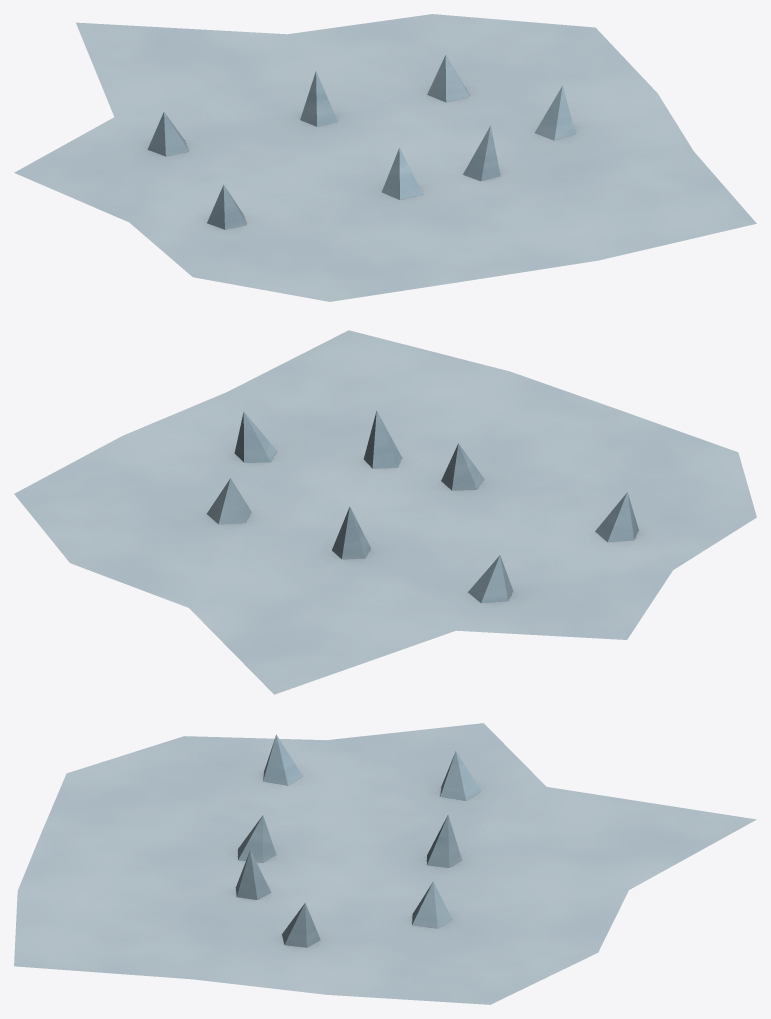
Rendered from trap_snow_light.glb.
3 renders of one model, top to bottom at view 1: azimuth 30°, elevation 25°; view 2: azimuth 150°, elevation 25°; view 3: azimuth 270°, elevation 25°, orthographic. The views are drawn at different scales.
Visible parts, largest first — view 1: trap_snow_light; view 2: trap_snow_light; view 3: trap_snow_light.
Boxes of the visible parts, <box> form: trap_snow_light: <box>14,14,756,301</box>; trap_snow_light: <box>14,330,756,694</box>; trap_snow_light: <box>14,723,756,1004</box>.
Bounding box in the file's own units: 0.9437 × 0.0964 × 1.05.
Materials: 2 (2 with a texture image).
